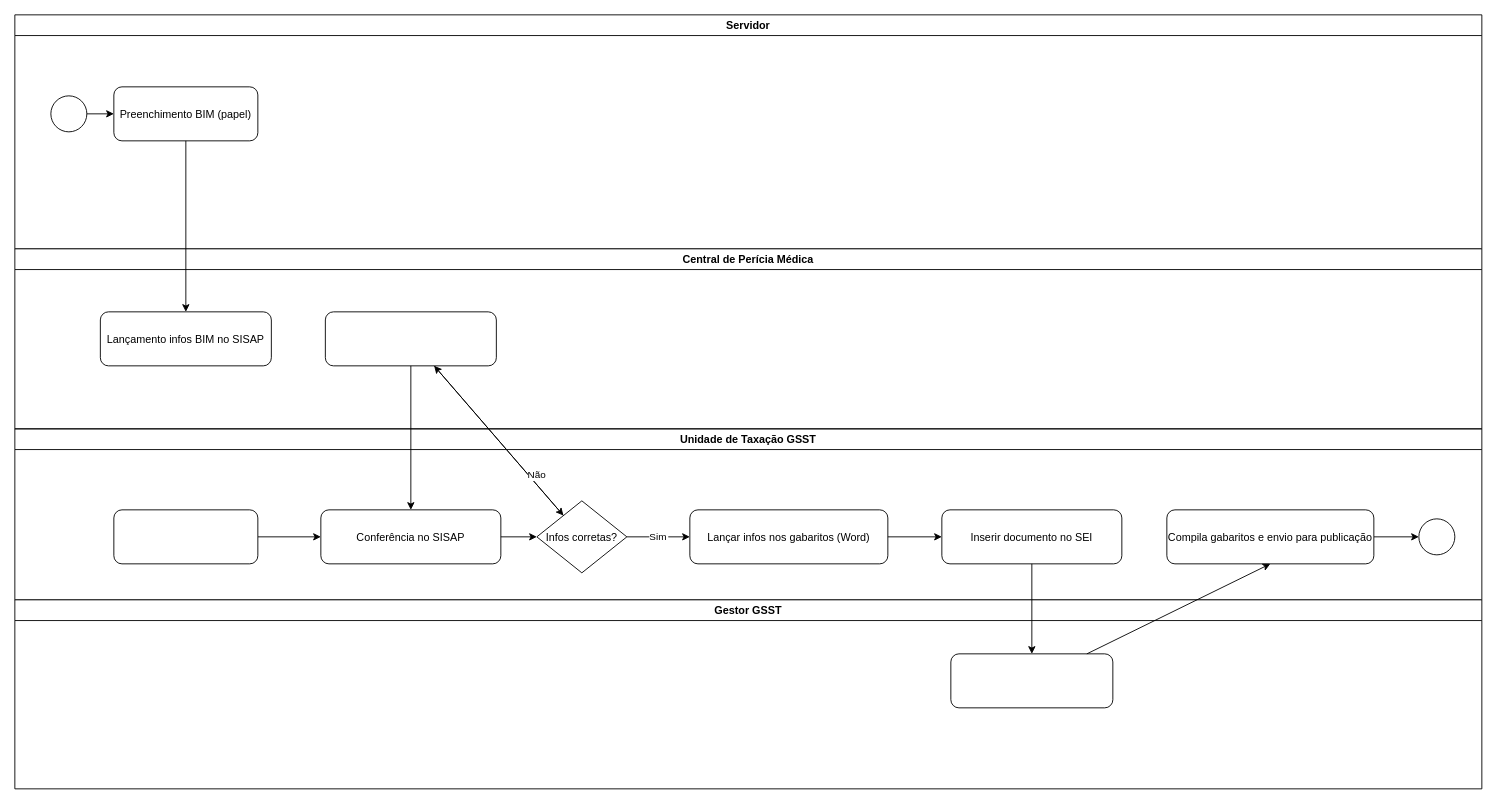
Some shapes in this 1497 by 804 pixel diagram are drawn without their labels. The shapes that lost their labels are listed below. From the top down, each one's centre as x and y in pixels, then its label:
At (68,113): "Início".
At (410,338): "Retificar infos no SISAP".
At (185,536): "Recebimento BIM".
At (1436,536): "Fim".
At (1031,680): "Assinatura gestor GSST via SEI".
